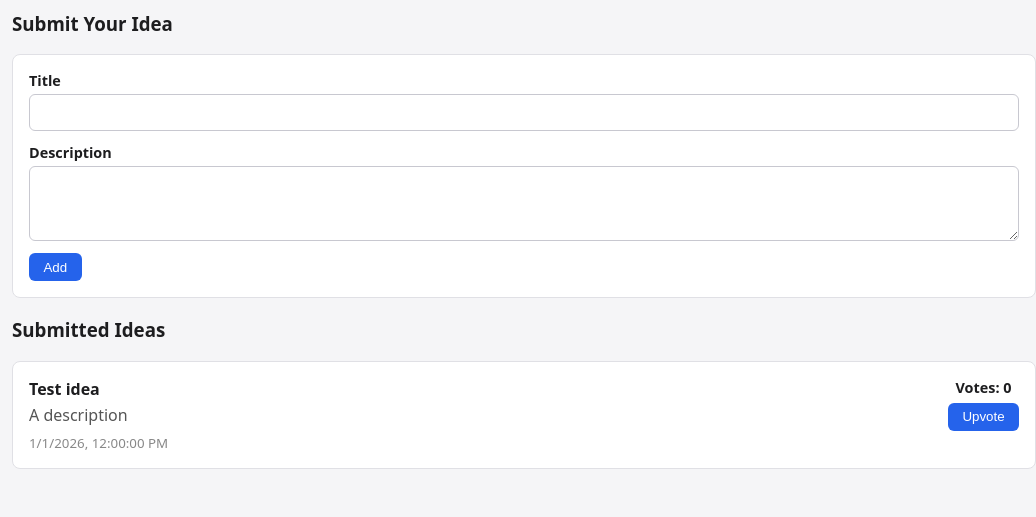
Test case: IdeaView › errors › shows an error when voting fails
This screenshot has width=1036, height=517.
What coordinates should you click on to do the following:
click the button "Upvote"
I would click on:
 (984, 417)
Its box is [948,403,1019,431].
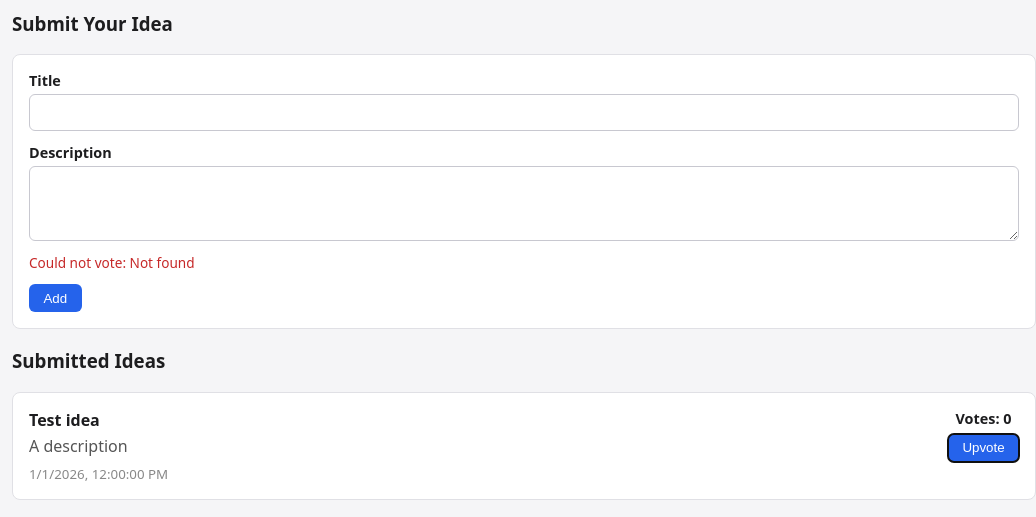
expect the message reads "Could not vote: Not found": met, box [29,253,195,272]
